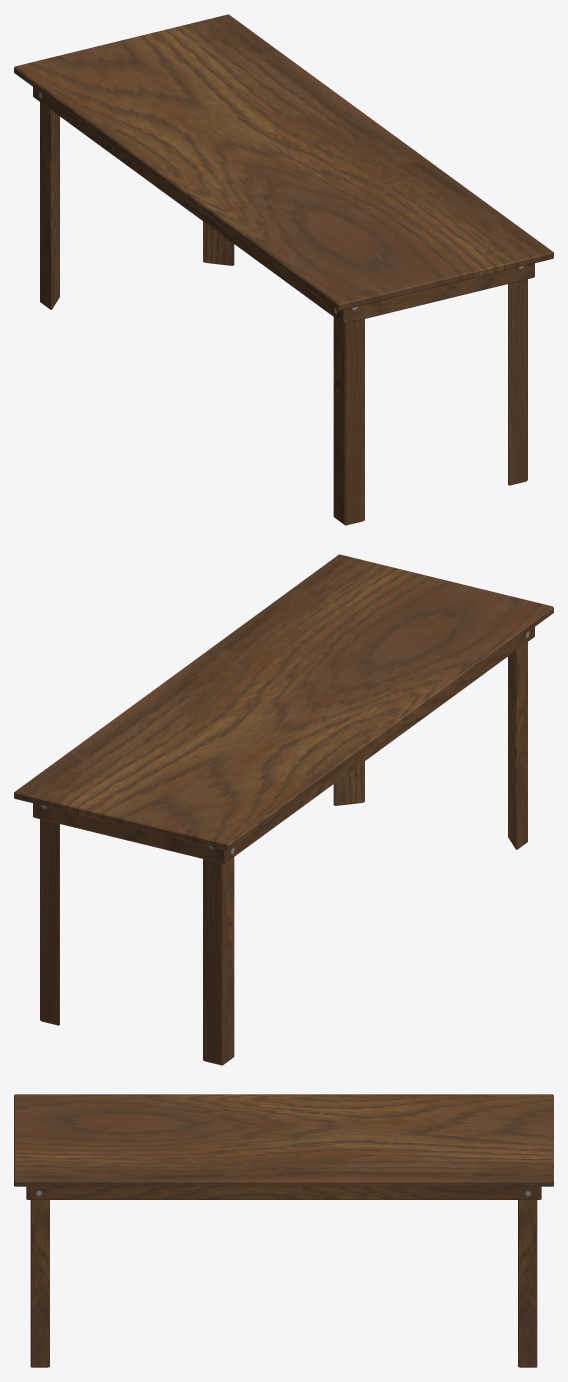
Rendered from galds.glb.
3 views of the same model, one above another, from view 1: azimuth 30°, elevation 25°; view 2: azimuth 150°, elevation 25°; view 3: azimuth 270°, elevation 25° (orthographic). The views are drawn at different scales.
Parts seen in each view (by area): view 1: Cube.036; view 2: Cube.036; view 3: Cube.036.
Part boxes in pixels (x1,y1,x2,y2): Cube.036: [14, 14, 553, 525]; Cube.036: [14, 554, 553, 1065]; Cube.036: [14, 1094, 553, 1367].
Size of the model in its own units: 0.7722 by 0.7973 by 2.02.
Materials: 1 (1 with a texture image).
